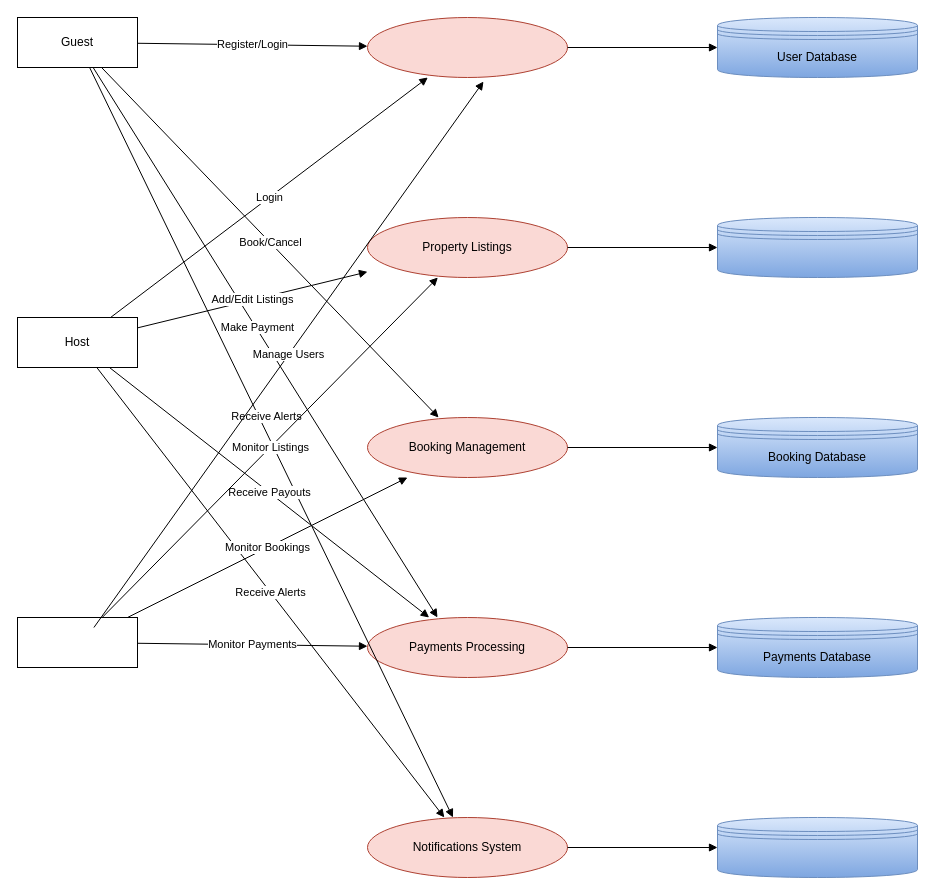
Image size: 935x895. Some labels were removed from this diagram. Each missing label, with the centre of its shape:
Admin: point 77,642
Notification Log: point 817,847
Property Database: point 817,247
User Management: point 467,47
